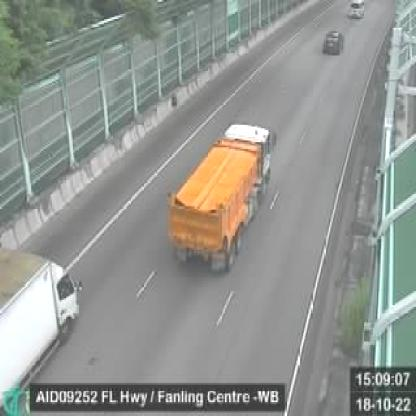Car: (322, 29, 343, 54), (350, 0, 366, 19)
Truck: (166, 123, 274, 276), (1, 256, 84, 414)
